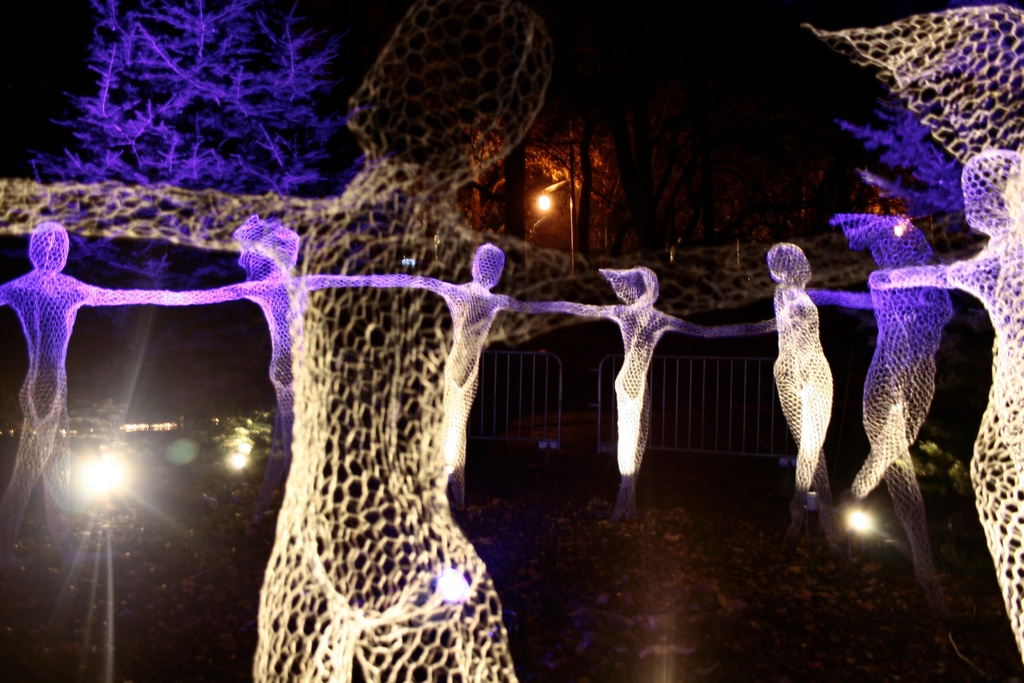Tree: (16, 0, 360, 431)
